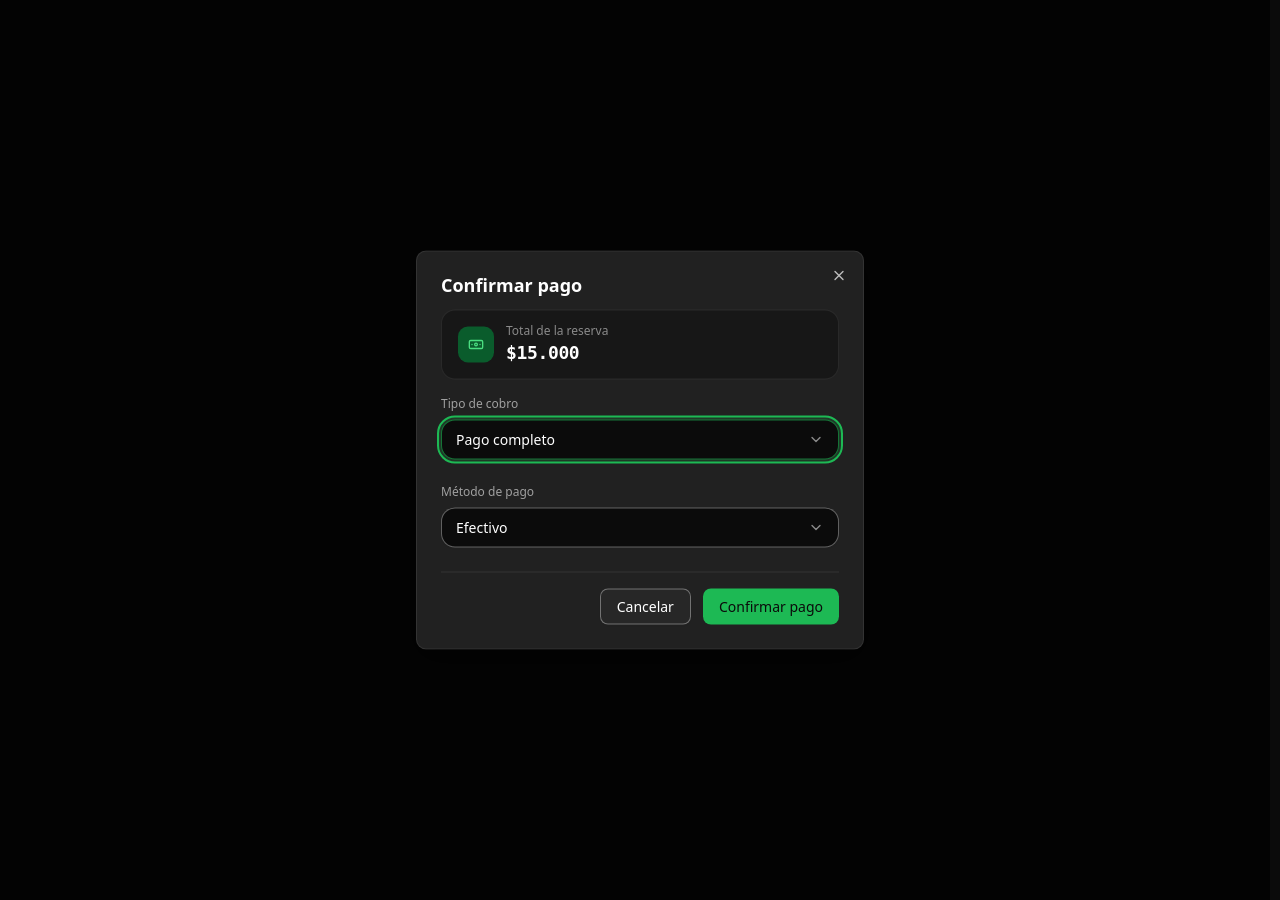
Test: ConfirmPaymentModal › blocks submit and shows a validation message when a deposit is submitted with no amount
The image size is (1280, 900).
Click the dropdown labelled "Pago completo" at point(505, 439), box [441,420,839,460]
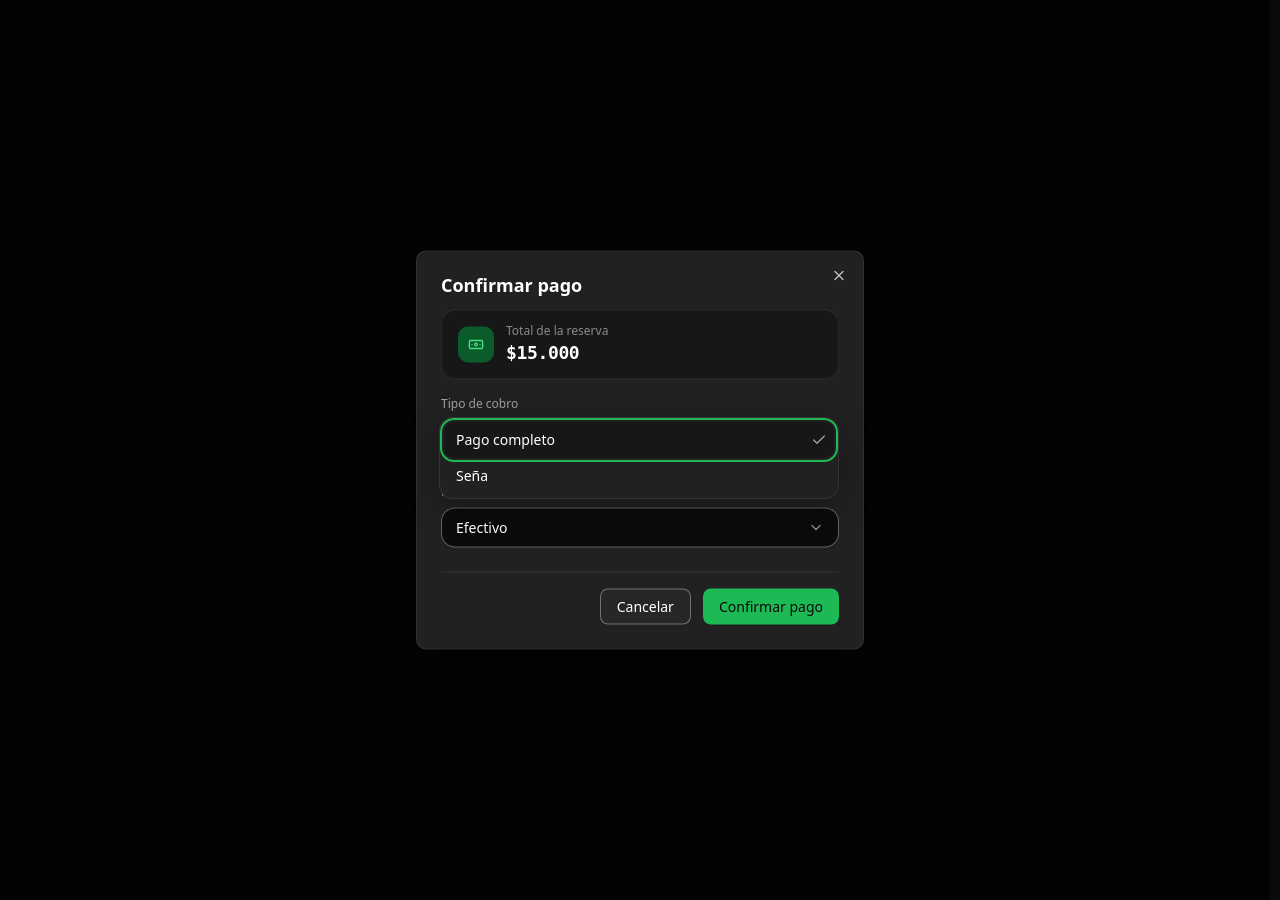
Click the option "Seña" at point(472, 475), box [456,466,488,484]
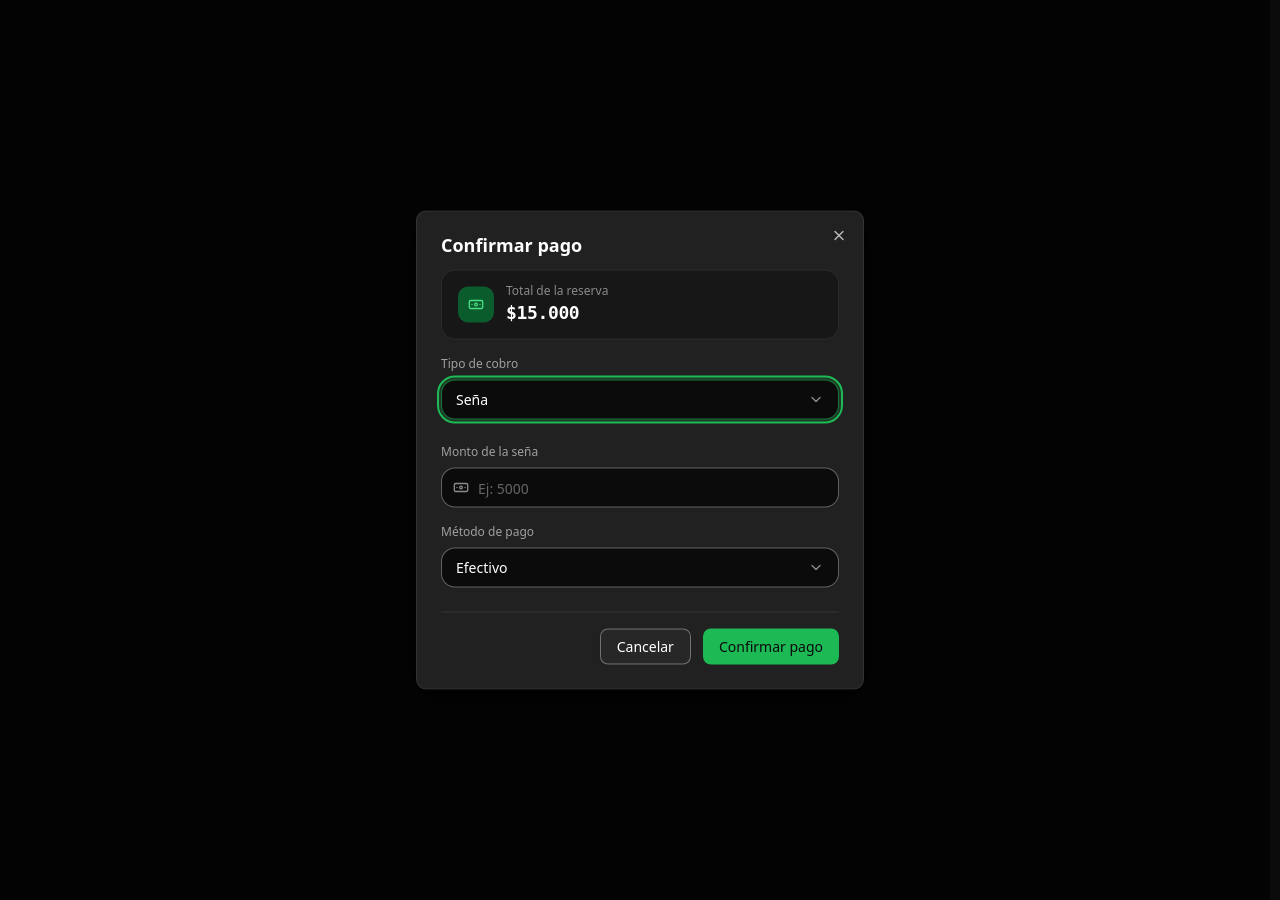
Click the button "Confirmar pago" at point(771, 646), box [703,628,839,664]
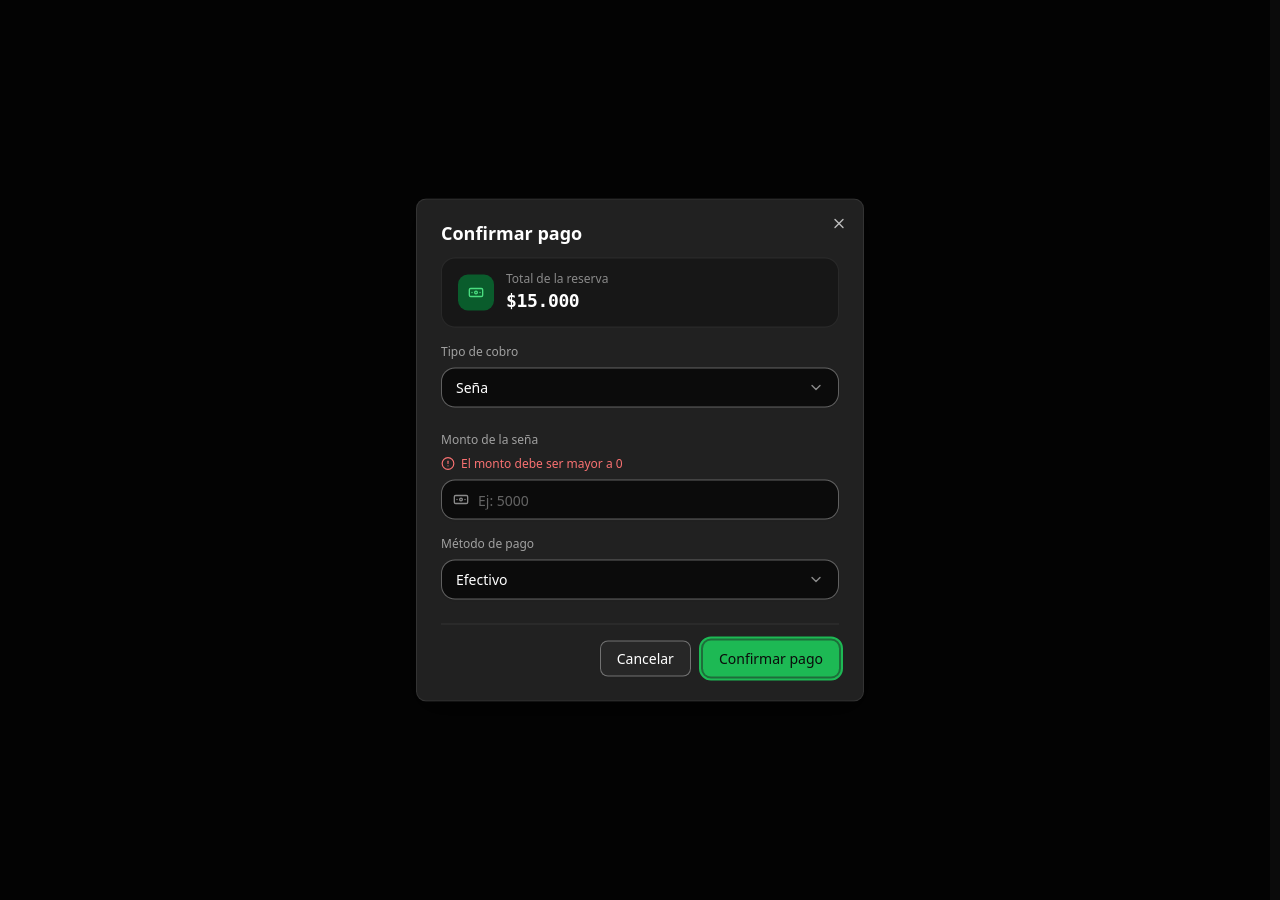
Result: the text "El monto debe ser mayor a 0" is shown at [441,454,623,472]
